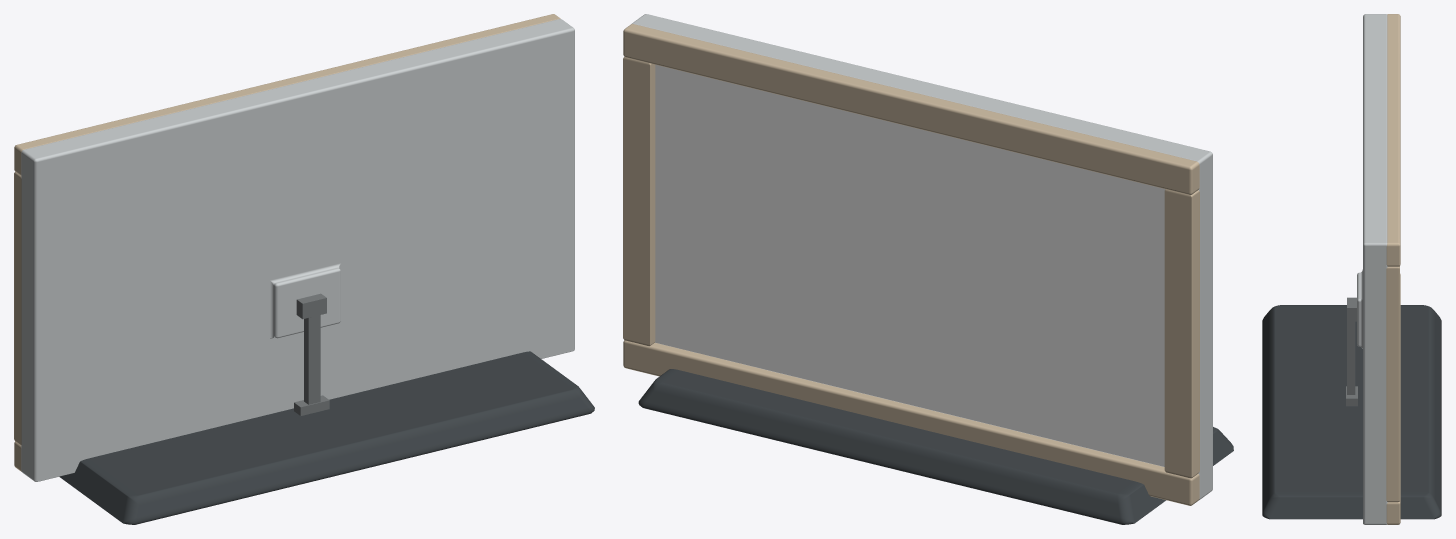
3 renders of one model, left to right at view 1: azimuth 30°, elevation 25°; view 2: azimuth 150°, elevation 25°; view 3: azimuth 270°, elevation 25°, orthographic. The views are drawn at different scales.
Parts seen in each view (by area): view 1: monitor_body_bezel, base_stand, pedestal_arm; view 2: display_surface, monitor_body_bezel, base_stand; view 3: base_stand, monitor_body_bezel, pedestal_arm.
Boxes of the visible parts, box(x1,y1,x2,y2) form: monitor_body_bezel: box(14, 14, 574, 481); base_stand: box(59, 351, 594, 524); pedestal_arm: box(294, 293, 329, 415); display_surface: box(655, 64, 1165, 466); monitor_body_bezel: box(623, 14, 1212, 505); base_stand: box(638, 369, 1233, 524); base_stand: box(1262, 305, 1441, 519); monitor_body_bezel: box(1357, 14, 1400, 524); pedestal_arm: box(1346, 297, 1357, 406).
Bounding box in the file's own units: 6.4 × 3.77 × 2.1.
